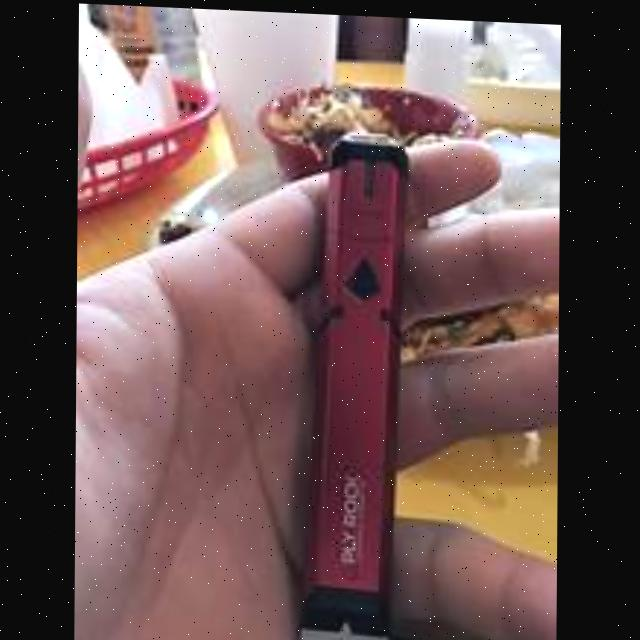vape: (299, 131, 412, 640)
